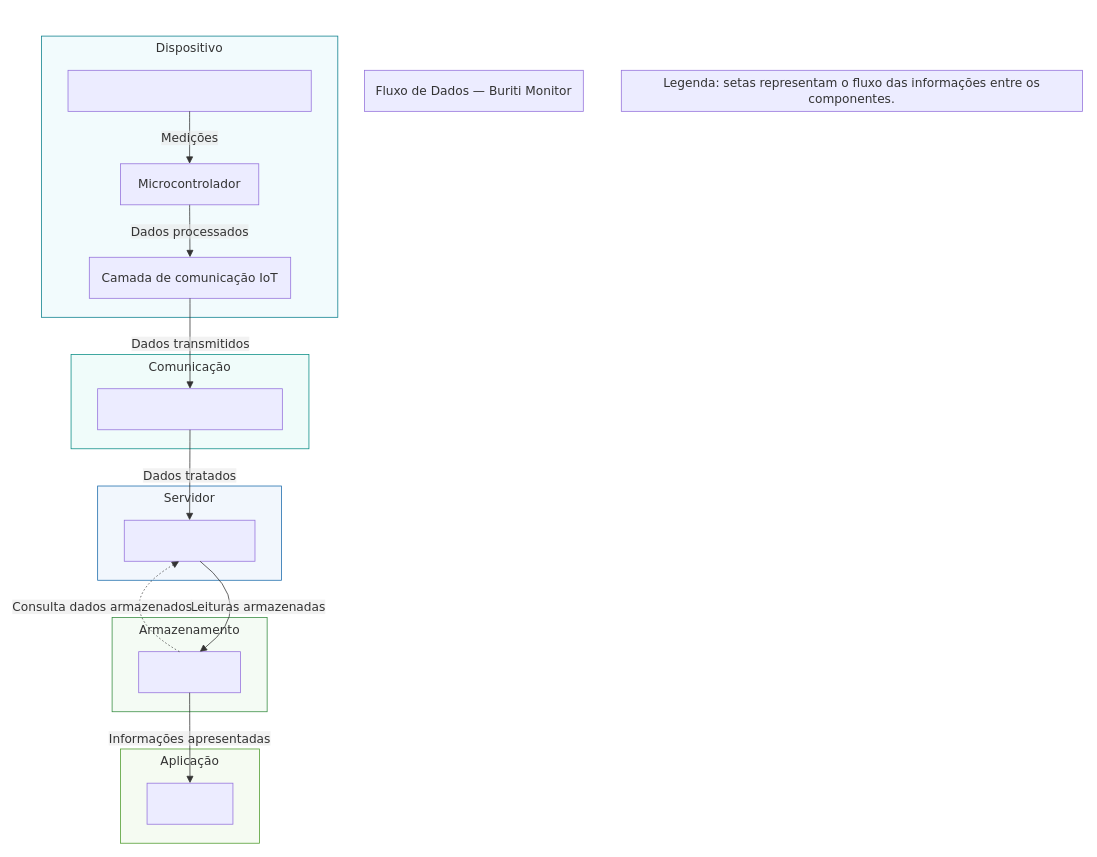
Some shapes in this 1097 by 857 pixel diagram are drawn without their labels. The centre of each missing label's shape, as x and y in pixels:
"Banco de Dados" goes at [189,540].
"Dashboard" goes at [189,672].
"Sensores de monitoramento da água" goes at [189,90].
"Servidor / Processamento" goes at [189,409].
"Usuário" goes at [189,803].
